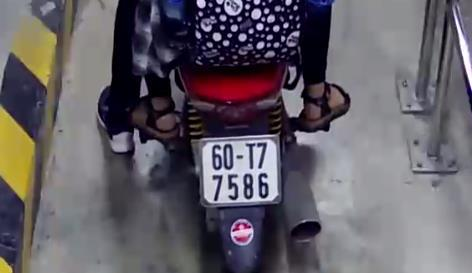lisence: (199, 133, 283, 207)
